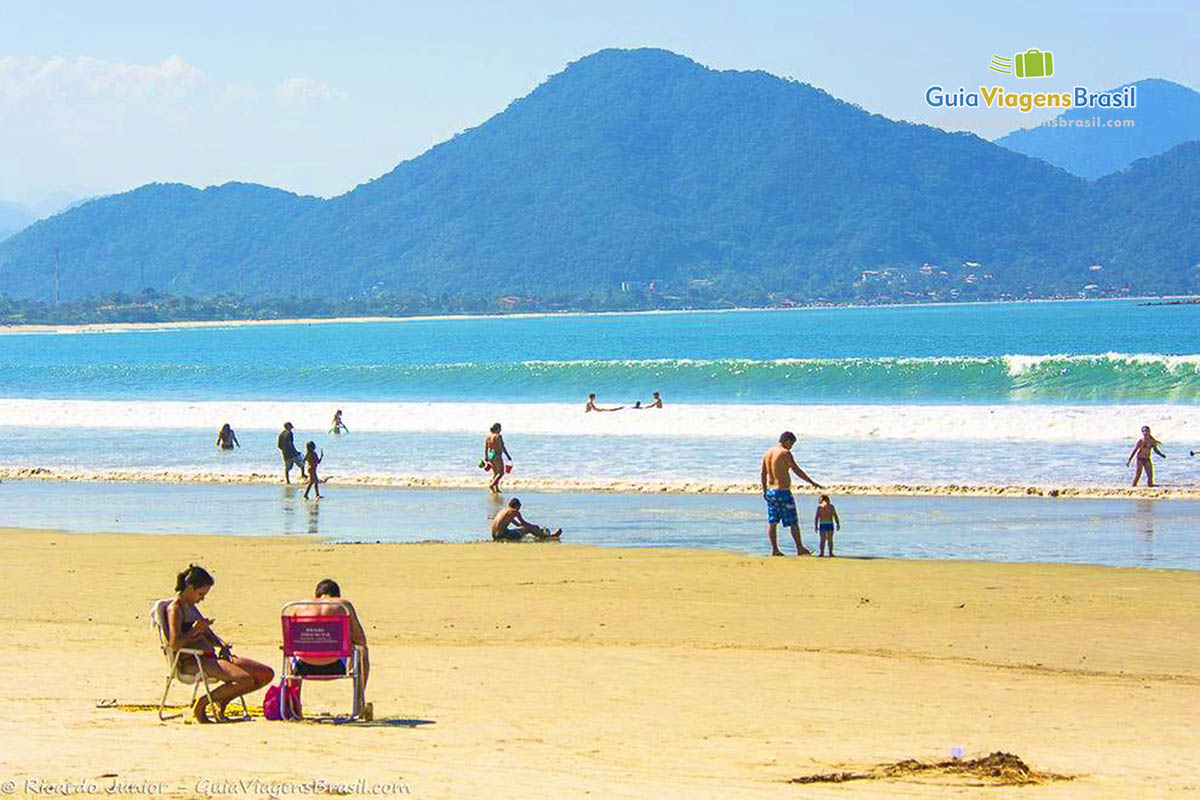Humano: (152, 554, 271, 713), (271, 573, 383, 725), (758, 428, 814, 558), (488, 497, 569, 548), (473, 419, 523, 497), (1126, 421, 1167, 491), (815, 487, 856, 555), (297, 437, 334, 500), (269, 420, 300, 477), (325, 402, 351, 442), (213, 420, 241, 450), (580, 390, 605, 416), (643, 390, 667, 412)
